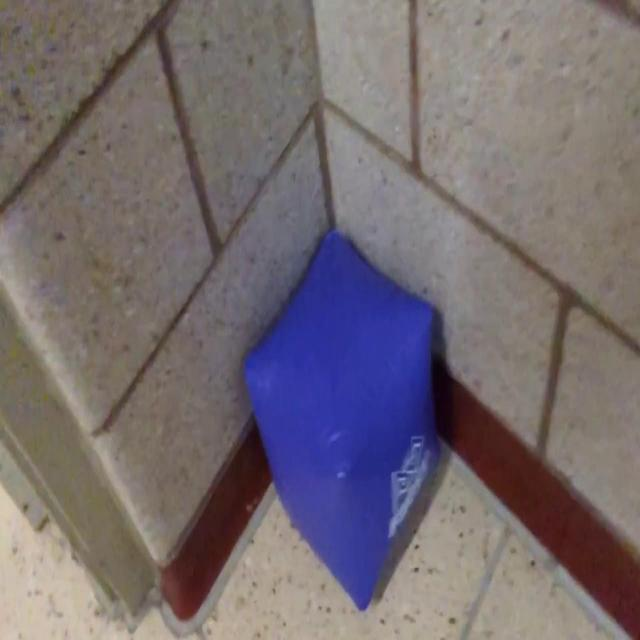frc_cube: (248, 230, 442, 612)
